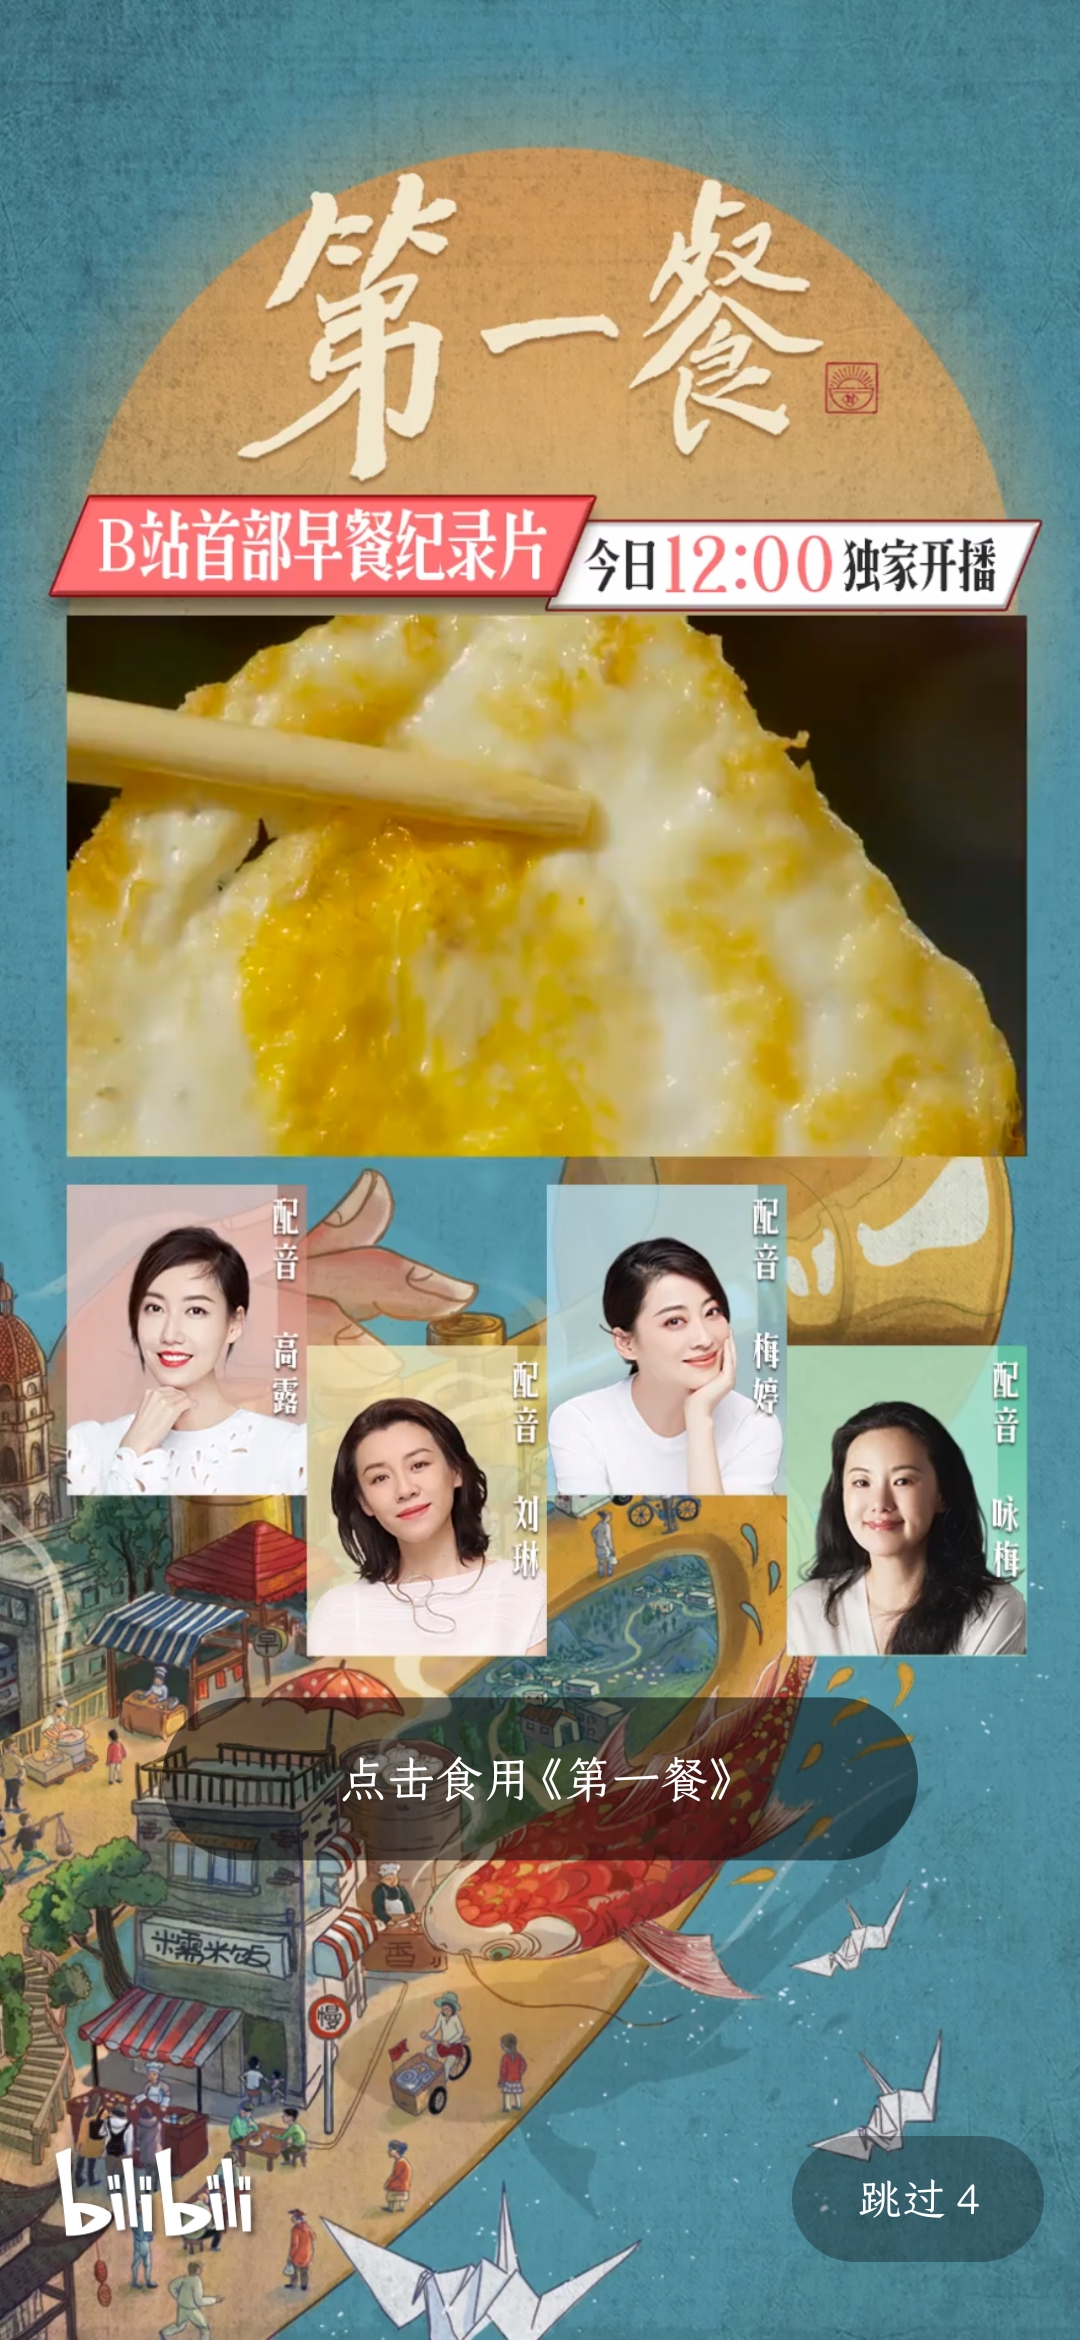skip: (820, 2147, 1005, 2259)
